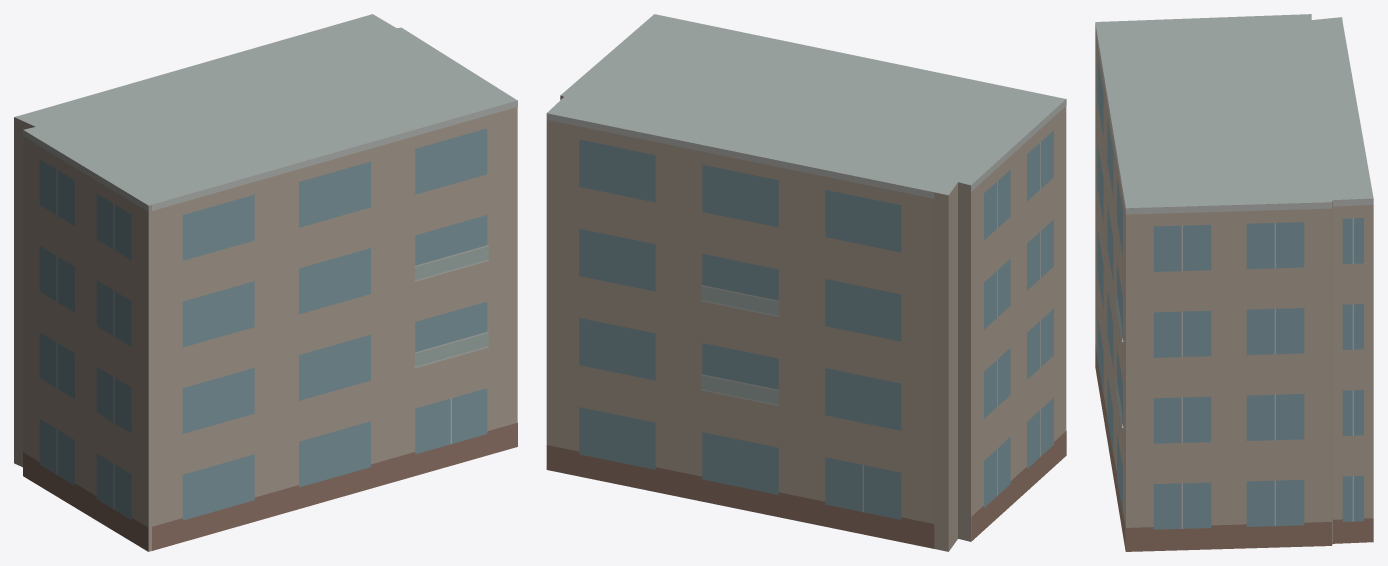
File: survey-upis-32631463.glb
3 views of the same model, side by side, from view 1: azimuth 30°, elevation 25°; view 2: azimuth 150°, elevation 25°; view 3: azimuth 270°, elevation 25° (orthographic). The views are drawn at different scales.
Visible parts, largest first — view 1: survey-upis-32631463.tmp; view 2: survey-upis-32631463.tmp; view 3: survey-upis-32631463.tmp.
Part boxes in pixels (box(x1,y1,x2,y2)): survey-upis-32631463.tmp: box(14, 14, 517, 551); survey-upis-32631463.tmp: box(546, 14, 1066, 551); survey-upis-32631463.tmp: box(1095, 14, 1373, 551).
Bounding box in the file's own units: 16.01 × 13.2 × 9.7.
